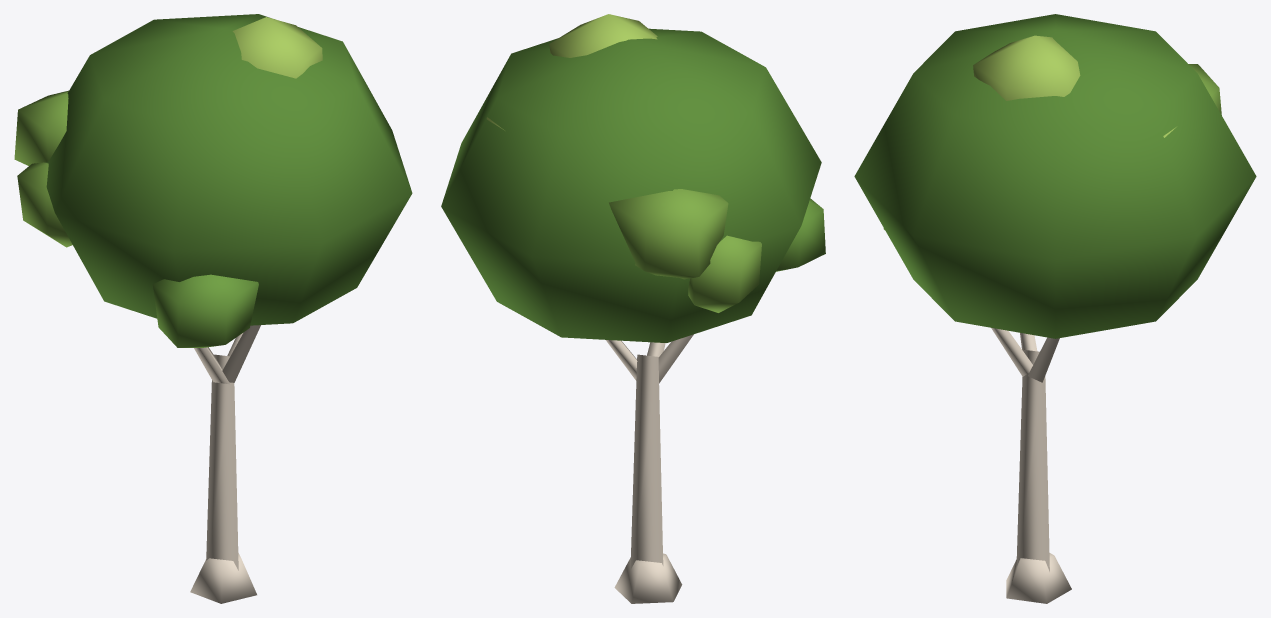
Rendered from maple.far.glb.
3 renders of one model, left to right at view 1: azimuth 30°, elevation 25°; view 2: azimuth 150°, elevation 25°; view 3: azimuth 270°, elevation 25°, orthographic. The views are drawn at different scales.
Visible parts, largest first — view 1: maple; view 2: maple; view 3: maple.
Part boxes in pixels (x1,y1,x2,y2): maple: (14, 14, 412, 603); maple: (441, 14, 825, 603); maple: (854, 14, 1256, 603).
Bounding box in the file's own units: 4.79 × 7.62 × 4.84.
